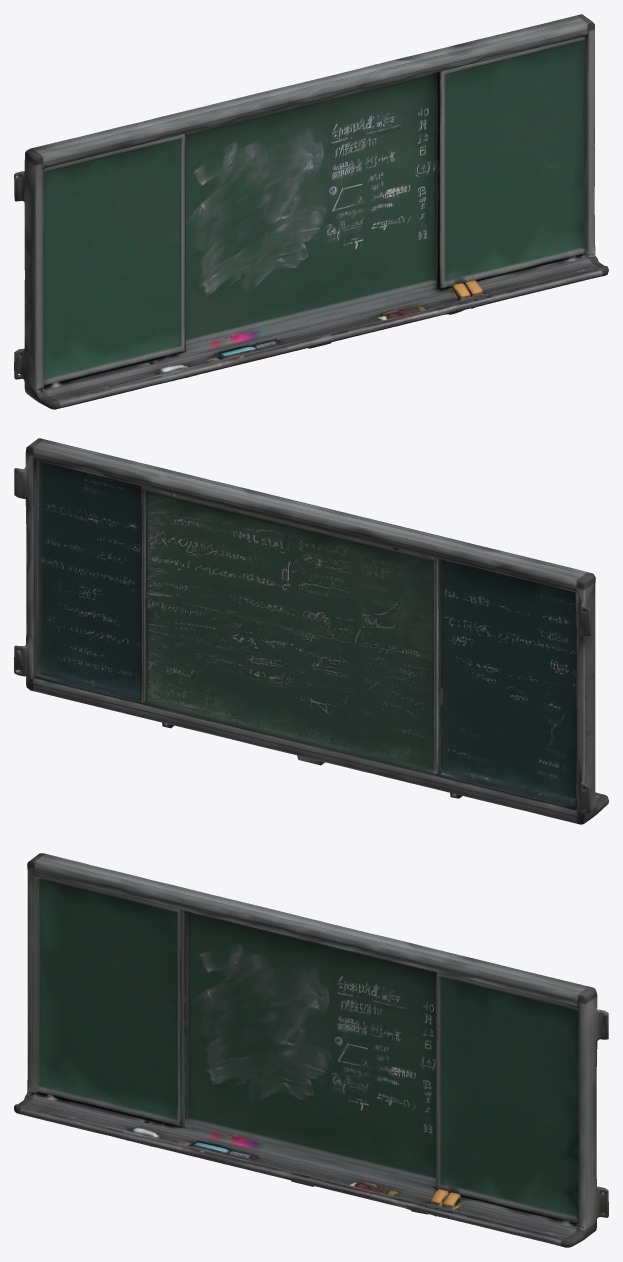
The model's file is SM_rishi_heiban.fbx.
3 views of the same model, one above another, from view 1: azimuth 30°, elevation 25°; view 2: azimuth 150°, elevation 25°; view 3: azimuth 330°, elevation 25° (orthographic).
Visible parts, largest first — view 1: polySurface182; view 2: polySurface182; view 3: polySurface182.
Boxes of the visible parts, box(x1,y1,x2,y2) form: polySurface182: box(14, 14, 608, 409); polySurface182: box(14, 438, 608, 824); polySurface182: box(14, 853, 608, 1247).
Bounding box in the file's own units: 198 × 83.43 × 17.96.
Materials: 1 (1 with a texture image).
